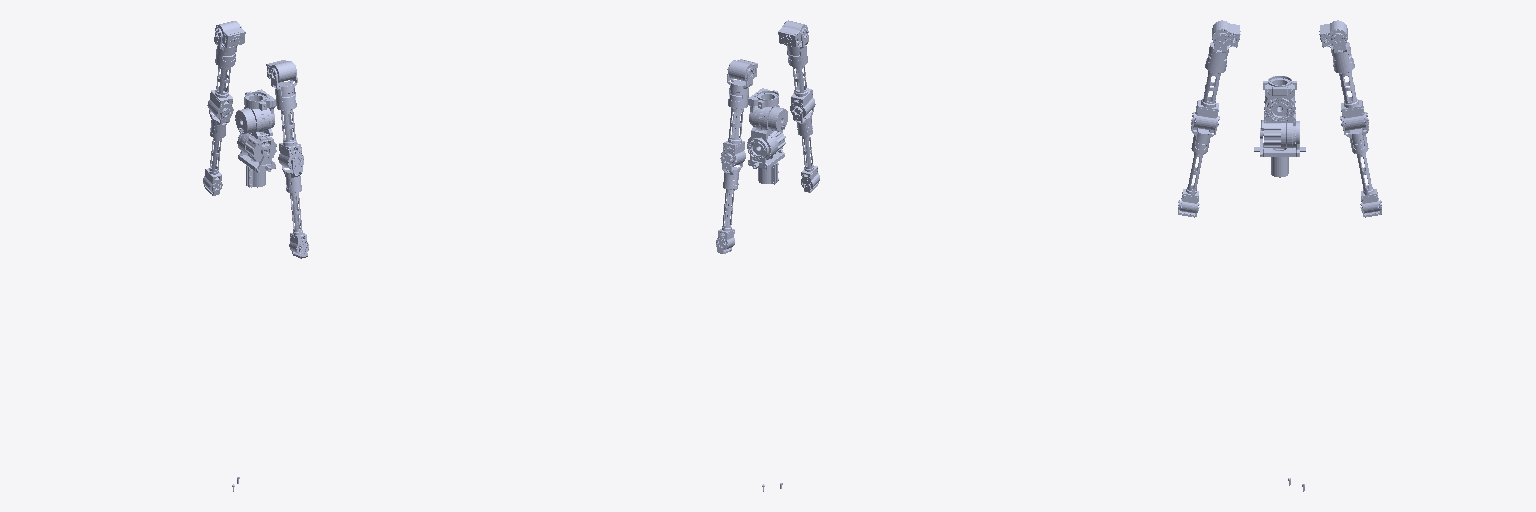
The robot description file, URDF, robot "eu_robot_describtion2":
<?xml version="1.0" encoding="utf-8"?>
<!-- This URDF was automatically created by SolidWorks to URDF Exporter! Originally created by Stephen Brawner (brawner@gmail.com) 
     Commit Version: 1.6.0-4-g7f85cfe  Build Version: 1.6.7995.38578
     For more information, please see http://wiki.ros.org/sw_urdf_exporter -->
<robot
  name="eu_robot_describtion2">
  <link
    name="base_link">
    <inertial>
      <origin
        xyz="-0.00268644839640692 0.00435184196561926 -0.0037688842003703"
        rpy="0 0 0" />
      <mass
        value="0.13007265219996" />
      <inertia
        ixx="0.000103725571524484"
        ixy="3.03480644928058E-08"
        ixz="-6.13391756695136E-06"
        iyy="0.000103168600342212"
        iyz="3.46817718769027E-07"
        izz="8.72627194072634E-05" />
    </inertial>
    <visual>
      <origin
        xyz="0 0 0"
        rpy="0 0 0" />
      <geometry>
        <mesh
          filename="package://eu_robot_describtion2/meshes/base_link.STL" />
      </geometry>
      <material
        name="">
        <color
          rgba="0.792156862745098 0.819607843137255 0.933333333333333 1" />
      </material>
    </visual>
    <collision>
      <origin
        xyz="0 0 0"
        rpy="0 0 0" />
      <geometry>
        <mesh
          filename="package://eu_robot_describtion2/meshes/base_link.STL" />
      </geometry>
    </collision>
  </link>
  <link
    name="Empty_Link1">
    <inertial>
      <origin
        xyz="-0.00493995804716169 0.0386240749704768 -0.000928922708935926"
        rpy="0 0 0" />
      <mass
        value="0.733637262203323" />
      <inertia
        ixx="0.000576814074492404"
        ixy="4.04436338754919E-08"
        ixz="-1.8483696263336E-07"
        iyy="0.000576292559505394"
        iyz="2.00620054128037E-07"
        izz="0.000572876295615162" />
    </inertial>
    <visual>
      <origin
        xyz="0 0 0"
        rpy="0 0 0" />
      <geometry>
        <mesh
          filename="package://eu_robot_describtion2/meshes/Empty_Link1.STL" />
      </geometry>
      <material
        name="">
        <color
          rgba="0.792156862745098 0.819607843137255 0.933333333333333 1" />
      </material>
    </visual>
    <collision>
      <origin
        xyz="0 0 0"
        rpy="0 0 0" />
      <geometry>
        <mesh
          filename="package://eu_robot_describtion2/meshes/Empty_Link1.STL" />
      </geometry>
    </collision>
  </link>
  <joint
    name="j1"
    type="revolute">
    <origin
      xyz="0 0 0.056"
      rpy="1.5708 0 0" />
    <parent
      link="base_link" />
    <child
      link="Empty_Link1" />
    <axis
      xyz="0 0 -1" />
    <limit
      lower="-3.14"
      upper="3.14"
      effort="30"
      velocity="0" />
  </joint>
  <link
    name="Empty_Link2">
    <inertial>
      <origin
        xyz="-0.03692588195793 1.51731622899094E-09 -0.0181367052630043"
        rpy="0 0 0" />
      <mass
        value="0.094455346564749" />
      <inertia
        ixx="7.27676525321318E-05"
        ixy="-1.52206444173686E-12"
        ixz="2.97033085663437E-07"
        iyy="5.54117436108663E-05"
        iyz="1.40407813897515E-12"
        izz="8.72451315479021E-05" />
    </inertial>
    <visual>
      <origin
        xyz="0 0 0"
        rpy="0 0 0" />
      <geometry>
        <mesh
          filename="package://eu_robot_describtion2/meshes/Empty_Link2.STL" />
      </geometry>
      <material
        name="">
        <color
          rgba="0.792156862745098 0.819607843137255 0.933333333333333 1" />
      </material>
    </visual>
    <collision>
      <origin
        xyz="0 0 0"
        rpy="0 0 0" />
      <geometry>
        <mesh
          filename="package://eu_robot_describtion2/meshes/Empty_Link2.STL" />
      </geometry>
    </collision>
  </link>
  <joint
    name="j2"
    type="revolute">
    <origin
      xyz="0 0.082 -0.00025"
      rpy="1.5708 0 -1.5708" />
    <parent
      link="Empty_Link1" />
    <child
      link="Empty_Link2" />
    <axis
      xyz="0 0 -1" />
    <limit
      lower="-3.14"
      upper="3.14"
      effort="30"
      velocity="0" />
  </joint>
  <link
    name="Empty_Link3">
    <inertial>
      <origin
        xyz="2.4047967532293E-06 0.00551121657734429 0.182420872194424"
        rpy="0 0 0" />
      <mass
        value="1.06851139066524" />
      <inertia
        ixx="0.0007912820443062"
        ixy="-5.81534813857249E-08"
        ixz="-9.07067869549201E-08"
        iyy="0.00118278064135337"
        iyz="6.48312224830388E-07"
        izz="0.000825995996102687" />
    </inertial>
    <visual>
      <origin
        xyz="0 0 0"
        rpy="0 0 0" />
      <geometry>
        <mesh
          filename="package://eu_robot_describtion2/meshes/Empty_Link3.STL" />
      </geometry>
      <material
        name="">
        <color
          rgba="0.792156862745098 0.819607843137255 0.933333333333333 1" />
      </material>
    </visual>
    <collision>
      <origin
        xyz="0 0 0"
        rpy="0 0 0" />
      <geometry>
        <mesh
          filename="package://eu_robot_describtion2/meshes/Empty_Link3.STL" />
      </geometry>
    </collision>
  </link>
  <joint
    name="j3"
    type="revolute">
    <origin
      xyz="0 0 0"
      rpy="1.5708 0 -1.5708" />
    <parent
      link="Empty_Link2" />
    <child
      link="Empty_Link3" />
    <axis
      xyz="0 0 -1" />
    <limit
      lower="-3.14"
      upper="3.14"
      effort="30"
      velocity="0" />
  </joint>
  <link
    name="Empty_Link4">
    <inertial>
      <origin
        xyz="-0.000275496081984104 1.45795958639283E-10 -0.1455483262628"
        rpy="0 0 0" />
      <mass
        value="0.162127240291291" />
      <inertia
        ixx="6.90625808931878E-05"
        ixy="9.91666490930211E-10"
        ixz="-2.77567545865832E-07"
        iyy="8.42913436837943E-05"
        iyz="-5.21313192639809E-13"
        izz="6.7731195618024E-05" />
    </inertial>
    <visual>
      <origin
        xyz="0 0 0"
        rpy="0 0 0" />
      <geometry>
        <mesh
          filename="package://eu_robot_describtion2/meshes/Empty_Link4.STL" />
      </geometry>
      <material
        name="">
        <color
          rgba="0.792156862745098 0.819607843137255 0.933333333333333 1" />
      </material>
    </visual>
    <collision>
      <origin
        xyz="0 0 0"
        rpy="0 0 0" />
      <geometry>
        <mesh
          filename="package://eu_robot_describtion2/meshes/Empty_Link4.STL" />
      </geometry>
    </collision>
  </link>
  <joint
    name="j4"
    type="revolute">
    <origin
      xyz="0 0.005 0.1775"
      rpy="-1.7453 0 -1.5708" />
    <parent
      link="Empty_Link3" />
    <child
      link="Empty_Link4" />
    <axis
      xyz="0 0 -1" />
    <limit
      lower="-3.14"
      upper="3.14"
      effort="12"
      velocity="0" />
  </joint>
  <link
    name="Empty_Link5">
    <inertial>
      <origin
        xyz="-0.0653941624254926 -1.16384334031272E-07 2.24513941918317E-05"
        rpy="0 0 0" />
      <mass
        value="0.160493918593398" />
      <inertia
        ixx="6.59342795426887E-05"
        ixy="-2.06687377208996E-10"
        ixz="9.30602393436789E-09"
        iyy="0.000123670938631586"
        iyz="-1.64594573743538E-09"
        izz="0.000111433381563952" />
    </inertial>
    <visual>
      <origin
        xyz="0 0 0"
        rpy="0 0 0" />
      <geometry>
        <mesh
          filename="package://eu_robot_describtion2/meshes/Empty_Link5.STL" />
      </geometry>
      <material
        name="">
        <color
          rgba="0.792156862745098 0.819607843137255 0.933333333333333 1" />
      </material>
    </visual>
    <collision>
      <origin
        xyz="0 0 0"
        rpy="0 0 0" />
      <geometry>
        <mesh
          filename="package://eu_robot_describtion2/meshes/Empty_Link5.STL" />
      </geometry>
    </collision>
  </link>
  <joint
    name="j5"
    type="revolute">
    <origin
      xyz="0 0 -0.15488"
      rpy="-1.5708 0 -1.5708" />
    <parent
      link="Empty_Link4" />
    <child
      link="Empty_Link5" />
    <axis
      xyz="0 0 -1" />
    <limit
      lower="-3.14"
      upper="3.14"
      effort="6"
      velocity="0" />
  </joint>
  <link
    name="Empty_Link6">
    <inertial>
      <origin
        xyz="-0.000243839227763998 -1.49619801347034E-07 0.233320984599314"
        rpy="0 0 0" />
      <mass
        value="0.184446096698391" />
      <inertia
        ixx="0.000103260583433415"
        ixy="-9.90359396088764E-10"
        ixz="2.77350189926269E-07"
        iyy="0.000118468251202415"
        iyz="-1.39423060549562E-09"
        izz="7.3409834411287E-05" />
    </inertial>
    <visual>
      <origin
        xyz="0 0 0"
        rpy="0 0 0" />
      <geometry>
        <mesh
          filename="package://eu_robot_describtion2/meshes/Empty_Link6.STL" />
      </geometry>
      <material
        name="">
        <color
          rgba="0.792156862745098 0.819607843137255 0.933333333333333 1" />
      </material>
    </visual>
    <collision>
      <origin
        xyz="0 0 0"
        rpy="0 0 0" />
      <geometry>
        <mesh
          filename="package://eu_robot_describtion2/meshes/Empty_Link6.STL" />
      </geometry>
    </collision>
  </link>
  <joint
    name="j6"
    type="revolute">
    <origin
      xyz="0 0 0"
      rpy="-1.5708 0 1.5708" />
    <parent
      link="Empty_Link5" />
    <child
      link="Empty_Link6" />
    <axis
      xyz="0 0 -1" />
    <limit
      lower="-3.14"
      upper="3.14"
      effort="6"
      velocity="0" />
  </joint>
  <link
    name="Empty_Link7">
    <inertial>
      <origin
        xyz="-6.52927294522709E-08 -0.055618562013533 3.58019265499221E-05"
        rpy="0 0 0" />
      <mass
        value="0.0878832576630916" />
      <inertia
        ixx="5.38248357373845E-05"
        ixy="2.13336956538037E-10"
        ixz="7.99076107042121E-10"
        iyy="2.73303849253864E-05"
        iyz="-1.18859214227375E-08"
        izz="4.43552762786779E-05" />
    </inertial>
    <visual>
      <origin
        xyz="0 0 0"
        rpy="0 0 0" />
      <geometry>
        <mesh
          filename="package://eu_robot_describtion2/meshes/Empty_Link7.STL" />
      </geometry>
      <material
        name="">
        <color
          rgba="0.792156862745098 0.819607843137255 0.933333333333333 1" />
      </material>
    </visual>
    <collision>
      <origin
        xyz="0 0 0"
        rpy="0 0 0" />
      <geometry>
        <mesh
          filename="package://eu_robot_describtion2/meshes/Empty_Link7.STL" />
      </geometry>
    </collision>
  </link>
  <joint
    name="j7"
    type="revolute">
    <origin
      xyz="0 0 0.2535"
      rpy="-1.5708 0 -1.5708" />
    <parent
      link="Empty_Link6" />
    <child
      link="Empty_Link7" />
    <axis
      xyz="0 0 -1" />
    <limit
      lower="-3.14"
      upper="3.14"
      effort="6"
      velocity="0" />
  </joint>
  <link
    name="Empty_Link8">
    <inertial>
      <origin
        xyz="-2.60887276018473E-09 -1.31484283845129E-05 0.228010486121878"
        rpy="0 0 0" />
      <mass
        value="0.0930523832221409" />
      <inertia
        ixx="5.44174362202507E-05"
        ixy="5.58448693831772E-10"
        ixz="-8.93290994858165E-12"
        iyy="4.97662492069303E-05"
        iyz="8.95092870576618E-09"
        izz="2.10455100525978E-05" />
    </inertial>
    <visual>
      <origin
        xyz="0 0 0"
        rpy="0 0 0" />
      <geometry>
        <mesh
          filename="package://eu_robot_describtion2/meshes/Empty_Link8.STL" />
      </geometry>
      <material
        name="">
        <color
          rgba="0.792156862745098 0.819607843137255 0.933333333333333 1" />
      </material>
    </visual>
    <collision>
      <origin
        xyz="0 0 0"
        rpy="0 0 0" />
      <geometry>
        <mesh
          filename="package://eu_robot_describtion2/meshes/Empty_Link8.STL" />
      </geometry>
    </collision>
  </link>
  <joint
    name="j8"
    type="revolute">
    <origin
      xyz="0 0 0"
      rpy="1.5708 0 0" />
    <parent
      link="Empty_Link7" />
    <child
      link="Empty_Link8" />
    <axis
      xyz="0 0 -1" />
    <limit
      lower="-3.14"
      upper="3.14"
      effort="1"
      velocity="0" />
  </joint>
  <link
    name="Empty_Link9">
    <inertial>
      <origin
        xyz="1.21860889251008E-07 -0.0201289208806814 2.90177248757351E-07"
        rpy="0 0 0" />
      <mass
        value="0.00882453835339625" />
      <inertia
        ixx="3.28589508268232E-06"
        ixy="6.29101892794339E-12"
        ixz="-2.54334493935075E-11"
        iyy="3.09089837567881E-06"
        iyz="1.48509377725584E-11"
        izz="8.77566114140057E-07" />
    </inertial>
    <visual>
      <origin
        xyz="0 0 0"
        rpy="0 0 0" />
      <geometry>
        <mesh
          filename="package://eu_robot_describtion2/meshes/Empty_Link9.STL" />
      </geometry>
      <material
        name="">
        <color
          rgba="0.792156862745098 0.819607843137255 0.933333333333333 1" />
      </material>
    </visual>
    <collision>
      <origin
        xyz="0 0 0"
        rpy="0 0 0" />
      <geometry>
        <mesh
          filename="package://eu_robot_describtion2/meshes/Empty_Link9.STL" />
      </geometry>
    </collision>
  </link>
  <joint
    name="j9"
    type="revolute">
    <origin
      xyz="0 0 0.252"
      rpy="-1.5708 0 0" />
    <parent
      link="Empty_Link8" />
    <child
      link="Empty_Link9" />
    <axis
      xyz="0 0 -1" />
    <limit
      lower="-3.14"
      upper="3.14"
      effort="1"
      velocity="0" />
  </joint>
  <link
    name="Empty_Link10">
    <inertial>
      <origin
        xyz="-0.000275496535380813 5.66640984134281E-10 0.145548326586389"
        rpy="0 0 0" />
      <mass
        value="0.162127237928102" />
      <inertia
        ixx="6.90625796243627E-05"
        ixy="-9.91046545943572E-10"
        ixz="2.77566680821336E-07"
        iyy="8.42913419427587E-05"
        iyz="2.43681550801775E-13"
        izz="6.77311953099278E-05" />
    </inertial>
    <visual>
      <origin
        xyz="0 0 0"
        rpy="0 0 0" />
      <geometry>
        <mesh
          filename="package://eu_robot_describtion2/meshes/Empty_Link10.STL" />
      </geometry>
      <material
        name="">
        <color
          rgba="0.792156862745098 0.819607843137255 0.933333333333333 1" />
      </material>
    </visual>
    <collision>
      <origin
        xyz="0 0 0"
        rpy="0 0 0" />
      <geometry>
        <mesh
          filename="package://eu_robot_describtion2/meshes/Empty_Link10.STL" />
      </geometry>
    </collision>
  </link>
  <joint
    name="j10"
    type="revolute">
    <origin
      xyz="0 0.005 0.1775"
      rpy="-1.3963 0 -1.5708" />
    <parent
      link="Empty_Link3" />
    <child
      link="Empty_Link10" />
    <axis
      xyz="0 0 -1" />
    <limit
      lower="-3.14"
      upper="3.14"
      effort="12"
      velocity="0" />
  </joint>
  <link
    name="Empty_Link11">
    <inertial>
      <origin
        xyz="-0.0653941379609824 -1.02176373556473E-07 2.25246663355869E-05"
        rpy="0 0 0" />
      <mass
        value="0.160493495193338" />
      <inertia
        ixx="6.59342801340624E-05"
        ixy="-6.90051484377764E-10"
        ixz="9.33799888488868E-09"
        iyy="0.000123670815579511"
        iyz="-1.63526547207858E-09"
        izz="0.0001114331766426" />
    </inertial>
    <visual>
      <origin
        xyz="0 0 0"
        rpy="0 0 0" />
      <geometry>
        <mesh
          filename="package://eu_robot_describtion2/meshes/Empty_Link11.STL" />
      </geometry>
      <material
        name="">
        <color
          rgba="0.792156862745098 0.819607843137255 0.933333333333333 1" />
      </material>
    </visual>
    <collision>
      <origin
        xyz="0 0 0"
        rpy="0 0 0" />
      <geometry>
        <mesh
          filename="package://eu_robot_describtion2/meshes/Empty_Link11.STL" />
      </geometry>
    </collision>
  </link>
  <joint
    name="j11"
    type="revolute">
    <origin
      xyz="0 0 0.15488"
      rpy="-1.5708 0 -1.5708" />
    <parent
      link="Empty_Link10" />
    <child
      link="Empty_Link11" />
    <axis
      xyz="0 0 -1" />
    <limit
      lower="-3.14"
      upper="3.14"
      effort="6"
      velocity="0" />
  </joint>
  <link
    name="Empty_Link12">
    <inertial>
      <origin
        xyz="-0.000236293088046235 -8.91220657314035E-06 0.232978132701063"
        rpy="0 0 0" />
      <mass
        value="0.184929850395378" />
      <inertia
        ixx="0.000103274199977019"
        ixy="-9.90339159940169E-10"
        ixz="2.7756915216799E-07"
        iyy="0.000118481867391914"
        iyz="1.39516623684059E-09"
        izz="7.34109525422066E-05" />
    </inertial>
    <visual>
      <origin
        xyz="0 0 0"
        rpy="0 0 0" />
      <geometry>
        <mesh
          filename="package://eu_robot_describtion2/meshes/Empty_Link12.STL" />
      </geometry>
      <material
        name="">
        <color
          rgba="0.792156862745098 0.819607843137255 0.933333333333333 1" />
      </material>
    </visual>
    <collision>
      <origin
        xyz="0 0 0"
        rpy="0 0 0" />
      <geometry>
        <mesh
          filename="package://eu_robot_describtion2/meshes/Empty_Link12.STL" />
      </geometry>
    </collision>
  </link>
  <joint
    name="j12"
    type="revolute">
    <origin
      xyz="0 0 0"
      rpy="1.5708 0 -1.5708" />
    <parent
      link="Empty_Link11" />
    <child
      link="Empty_Link12" />
    <axis
      xyz="0 0 -1" />
    <limit
      lower="-3.14"
      upper="3.14"
      effort="6"
      velocity="0" />
  </joint>
  <link
    name="Empty_Link13">
    <inertial>
      <origin
        xyz="-7.96549781169331E-08 0.0556185620144298 3.58022754477216E-05"
        rpy="0 0 0" />
      <mass
        value="0.0878832576573166" />
      <inertia
        ixx="5.38248357362292E-05"
        ixy="-1.34122548004127E-10"
        ixz="-7.99075313122012E-10"
        iyy="2.73303849259967E-05"
        iyz="1.18866110451317E-08"
        izz="4.4355276276683E-05" />
    </inertial>
    <visual>
      <origin
        xyz="0 0 0"
        rpy="0 0 0" />
      <geometry>
        <mesh
          filename="package://eu_robot_describtion2/meshes/Empty_Link13.STL" />
      </geometry>
      <material
        name="">
        <color
          rgba="0.792156862745098 0.819607843137255 0.933333333333333 1" />
      </material>
    </visual>
    <collision>
      <origin
        xyz="0 0 0"
        rpy="0 0 0" />
      <geometry>
        <mesh
          filename="package://eu_robot_describtion2/meshes/Empty_Link13.STL" />
      </geometry>
    </collision>
  </link>
  <joint
    name="j13"
    type="revolute">
    <origin
      xyz="0 0 0.2535"
      rpy="1.5708 0 1.5708" />
    <parent
      link="Empty_Link12" />
    <child
      link="Empty_Link13" />
    <axis
      xyz="0 0 -1" />
    <limit
      lower="-3.14"
      upper="3.14"
      effort="6"
      velocity="0" />
  </joint>
  <link
    name="Empty_Link14">
    <inertial>
      <origin
        xyz="2.60876004132271E-09 1.31484341834021E-05 0.228010486121846"
        rpy="0 0 0" />
      <mass
        value="0.0930523832224075" />
      <inertia
        ixx="5.44174362202547E-05"
        ixy="5.5844869708198E-10"
        ixz="8.93291571481432E-12"
        iyy="4.9766249206931E-05"
        iyz="-8.95092873175718E-09"
        izz="2.10455100526012E-05" />
    </inertial>
    <visual>
      <origin
        xyz="0 0 0"
        rpy="0 0 0" />
      <geometry>
        <mesh
          filename="package://eu_robot_describtion2/meshes/Empty_Link14.STL" />
      </geometry>
      <material
        name="">
        <color
          rgba="0.792156862745098 0.819607843137255 0.933333333333333 1" />
      </material>
    </visual>
    <collision>
      <origin
        xyz="0 0 0"
        rpy="0 0 0" />
      <geometry>
        <mesh
          filename="package://eu_robot_describtion2/meshes/Empty_Link14.STL" />
      </geometry>
    </collision>
  </link>
  <joint
    name="j14"
    type="revolute">
    <origin
      xyz="0 0 0"
      rpy="-1.5708 0 0" />
    <parent
      link="Empty_Link13" />
    <child
      link="Empty_Link14" />
    <axis
      xyz="0 0 -1" />
    <limit
      lower="-3.14"
      upper="3.14"
      effort="1"
      velocity="0" />
  </joint>
  <link
    name="Empty_Link15">
    <inertial>
      <origin
        xyz="-1.21860889209374E-07 0.0201289208806817 2.90177248646328E-07"
        rpy="0 0 0" />
      <mass
        value="0.00882453835339624" />
      <inertia
        ixx="3.2858950826823E-06"
        ixy="6.29101892829226E-12"
        ixz="2.5433449393805E-11"
        iyy="3.0908983756788E-06"
        iyz="-1.48509377763039E-11"
        izz="8.77566114140055E-07" />
    </inertial>
    <visual>
      <origin
        xyz="0 0 0"
        rpy="0 0 0" />
      <geometry>
        <mesh
          filename="package://eu_robot_describtion2/meshes/Empty_Link15.STL" />
      </geometry>
      <material
        name="">
        <color
          rgba="0.792156862745098 0.819607843137255 0.933333333333333 1" />
      </material>
    </visual>
    <collision>
      <origin
        xyz="0 0 0"
        rpy="0 0 0" />
      <geometry>
        <mesh
          filename="package://eu_robot_describtion2/meshes/Empty_Link15.STL" />
      </geometry>
    </collision>
  </link>
  <joint
    name="j15"
    type="revolute">
    <origin
      xyz="0 0 0.252"
      rpy="1.5708 0 0" />
    <parent
      link="Empty_Link14" />
    <child
      link="Empty_Link15" />
    <axis
      xyz="0 0 -1" />
    <limit
      lower="-3.14"
      upper="3.14"
      effort="1"
      velocity="0" />
  </joint>
</robot>

--- Render facts (derived) ---
Views: 3 orthographic renders of the robot side by side, from view 1: azimuth 30°, elevation 25°; view 2: azimuth 150°, elevation 25°; view 3: azimuth 270°, elevation 25°.
Robot: eu_robot_describtion2 — 16 links, 15 joints (15 revolute); root link base_link; default pose: every joint at zero.
Links seen in each view (by area): view 1: Empty_Link1, Empty_Link6, base_link, Empty_Link12, Empty_Link5, Empty_Link8, Empty_Link14, Empty_Link2, Empty_Link10, Empty_Link11; view 2: Empty_Link1, base_link, Empty_Link12, Empty_Link6, Empty_Link11, Empty_Link14, Empty_Link8, Empty_Link4, Empty_Link2; view 3: Empty_Link1, Empty_Link2, base_link, Empty_Link6, Empty_Link12, Empty_Link5, Empty_Link11, Empty_Link8, Empty_Link14.
Boxes of the visible links, <box> form: Empty_Link1: <box>235,106,276,162</box>; Empty_Link6: <box>278,109,303,169</box>; base_link: <box>232,147,275,491</box>; Empty_Link12: <box>207,66,233,119</box>; Empty_Link5: <box>270,65,297,110</box>; Empty_Link8: <box>289,192,308,254</box>; Empty_Link14: <box>203,138,222,192</box>; Empty_Link2: <box>244,89,275,127</box>; Empty_Link10: <box>215,21,245,47</box>; Empty_Link11: <box>214,26,241,67</box>; Empty_Link1: <box>747,105,787,159</box>; base_link: <box>748,138,784,491</box>; Empty_Link12: <box>720,107,745,166</box>; Empty_Link6: <box>790,65,815,117</box>; Empty_Link11: <box>727,64,754,109</box>; Empty_Link14: <box>716,189,734,249</box>; Empty_Link8: <box>801,136,819,189</box>; Empty_Link4: <box>778,20,807,46</box>; Empty_Link2: <box>748,88,778,125</box>; Empty_Link1: <box>1261,96,1295,147</box>; Empty_Link2: <box>1263,76,1296,122</box>; base_link: <box>1254,121,1305,491</box>; Empty_Link6: <box>1193,71,1220,130</box>; Empty_Link12: <box>1339,71,1366,130</box>; Empty_Link5: <box>1205,33,1229,73</box>; Empty_Link11: <box>1330,33,1354,73</box>; Empty_Link8: <box>1180,152,1203,213</box>; Empty_Link14: <box>1357,152,1379,213</box>.
Size in the robot's own frame: 0.1066 by 0.5399 by 1.37 metres.
Meshes: 16 distinct files referenced, 15 mesh visuals loaded (15 binary STL); not drawn: 1 (reference not matched to a file when rendering).
